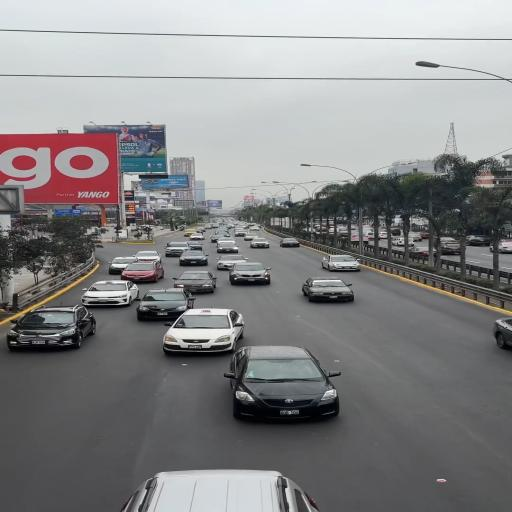auto: (112, 469, 327, 511), (224, 347, 340, 420), (160, 309, 247, 356), (6, 304, 93, 349), (136, 287, 198, 320), (80, 280, 139, 307), (301, 276, 356, 302), (171, 270, 219, 294), (120, 259, 165, 283), (227, 262, 273, 285), (321, 254, 363, 272), (492, 316, 512, 350), (107, 256, 139, 275), (215, 254, 249, 270), (178, 250, 210, 266), (134, 250, 162, 264), (406, 244, 437, 256), (165, 241, 191, 255), (489, 239, 511, 254), (464, 235, 490, 246), (391, 236, 416, 246), (248, 238, 271, 248), (214, 238, 236, 248), (279, 238, 300, 248), (188, 233, 205, 240)
